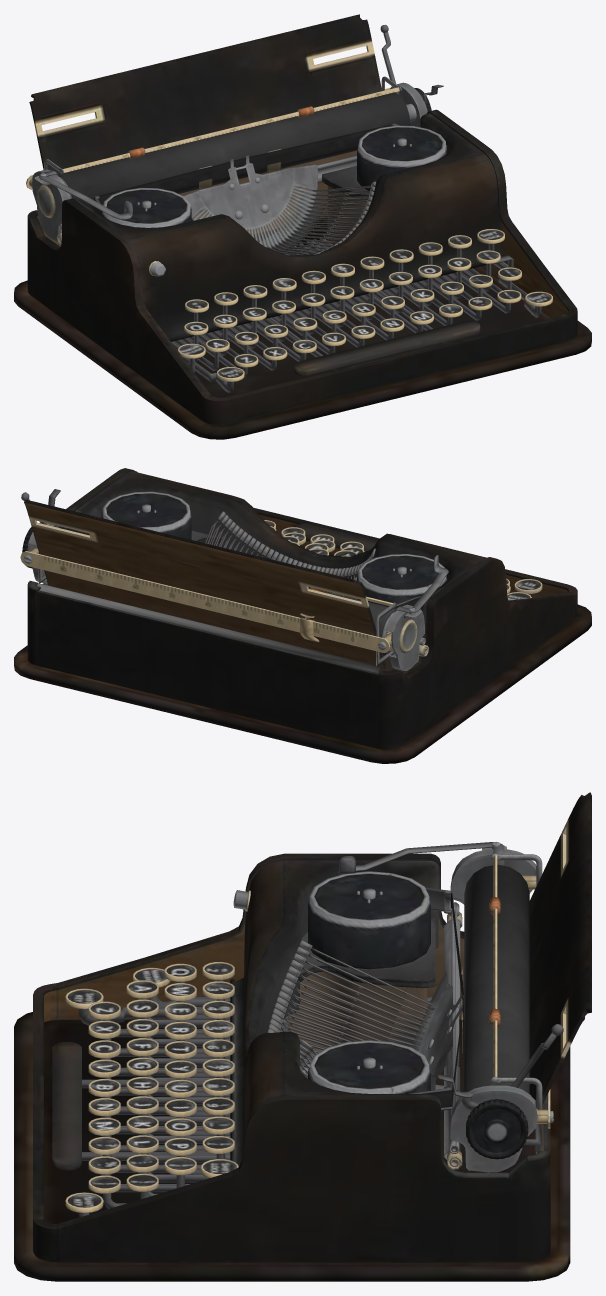
Rendered from 1930s_style_typewriter_w_o_branding.glb.
3 views of the same model, one above another, from view 1: azimuth 30°, elevation 25°; view 2: azimuth 150°, elevation 25°; view 3: azimuth 270°, elevation 25° (orthographic). The views are drawn at different scales.
Visible parts, largest first — view 1: Object_3; view 2: Object_3; view 3: Object_3.
Boxes of the visible parts, x1,y1,x2,y2 form: Object_3: [14, 14, 591, 439]; Object_3: [14, 468, 591, 763]; Object_3: [14, 792, 591, 1281].
Size of the model in its own units: 0.3782 by 0.169 by 0.352.
Materials: 1 (1 with a texture image).
